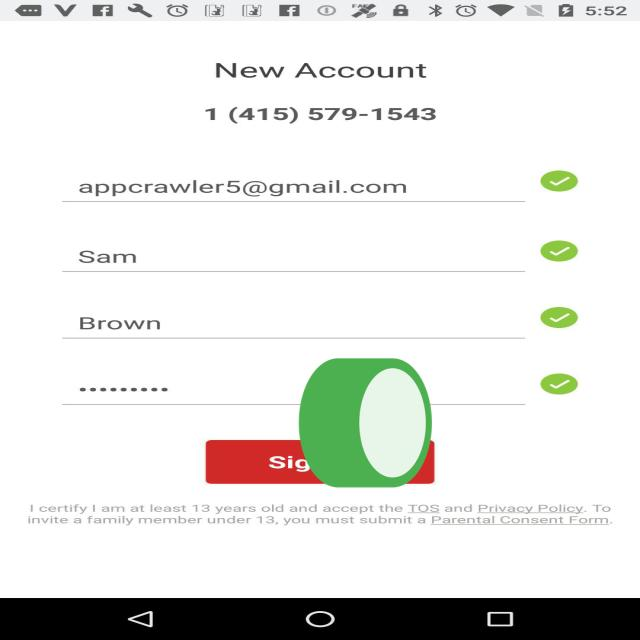social proof: (293, 309, 438, 547)
